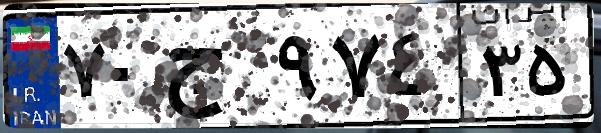0: (110, 28, 158, 98)
3: (475, 38, 525, 113)
4: (385, 28, 445, 110)
5: (525, 38, 570, 115)
7: (330, 28, 385, 110), (57, 26, 110, 100)
9: (270, 28, 330, 110)
ج: (158, 20, 270, 120)
